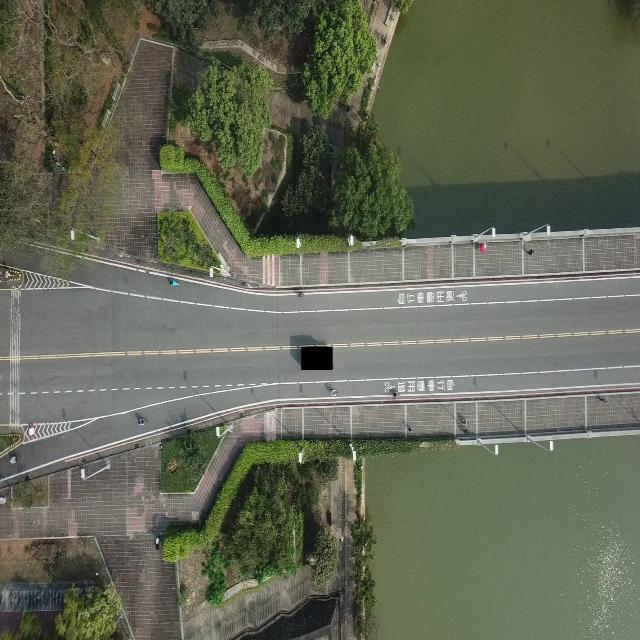bike: (138, 415, 152, 433), (171, 274, 180, 293), (331, 387, 340, 402), (392, 386, 403, 396)
car: (10, 453, 20, 464)
